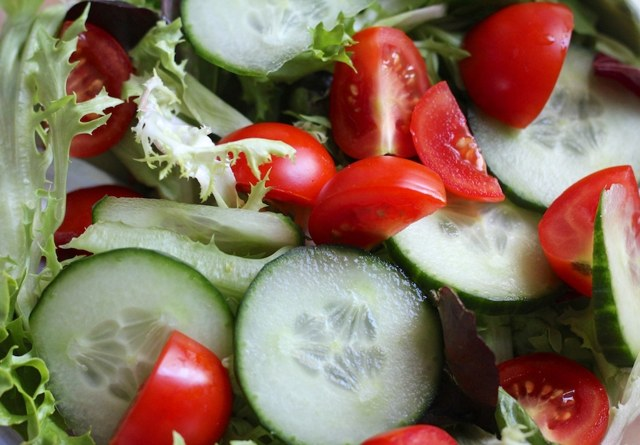tomato: (309, 155, 446, 251)
